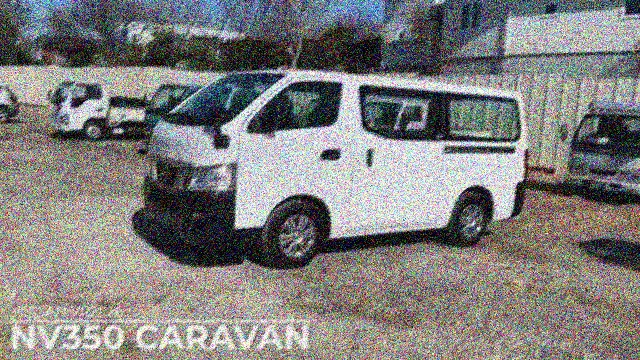van: (139, 70, 530, 260)
